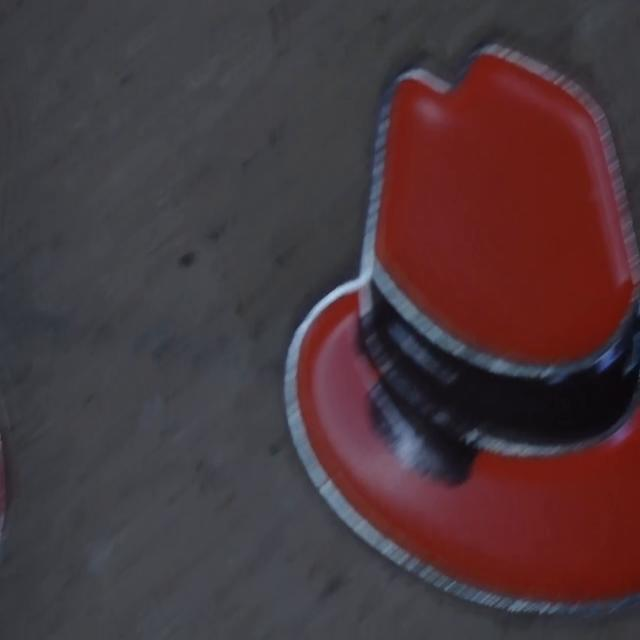Hatband: (360, 261, 640, 456)
Paint_Leak: (369, 378, 476, 484)
RedHatPin: (285, 47, 640, 612)
